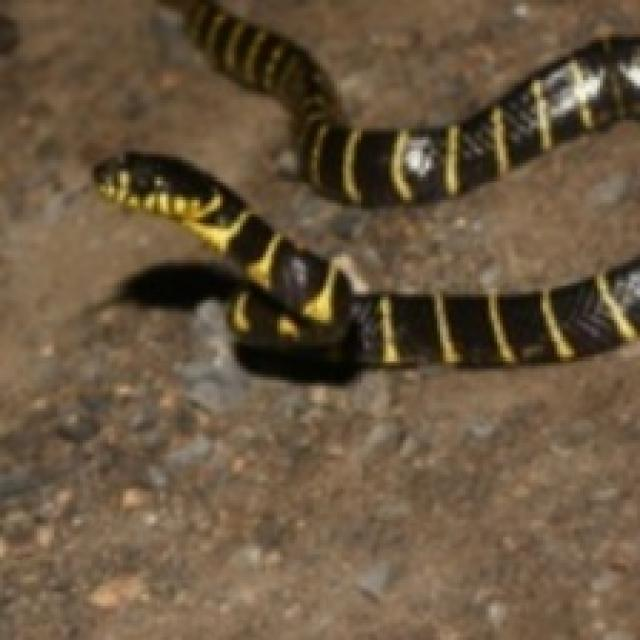mangrove cat snake: (94, 0, 637, 371), (166, 0, 637, 203), (446, 194, 560, 280)
